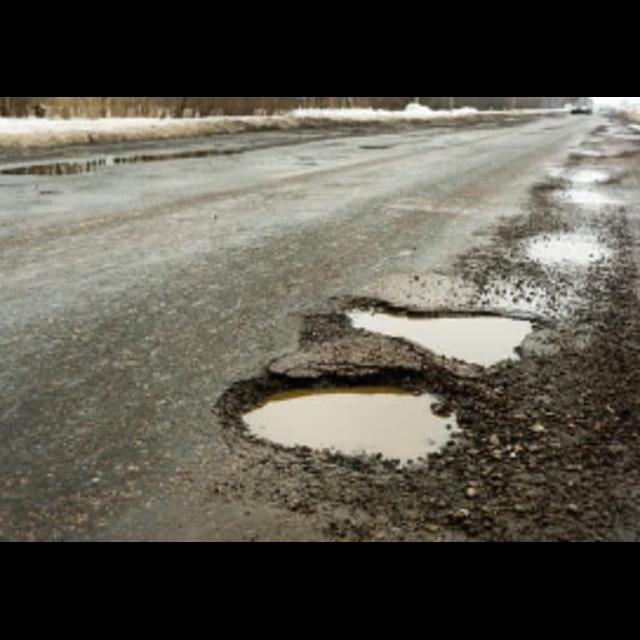lubang_kecil: (207, 348, 478, 500), (319, 285, 539, 382), (504, 213, 628, 285), (537, 154, 631, 214)
